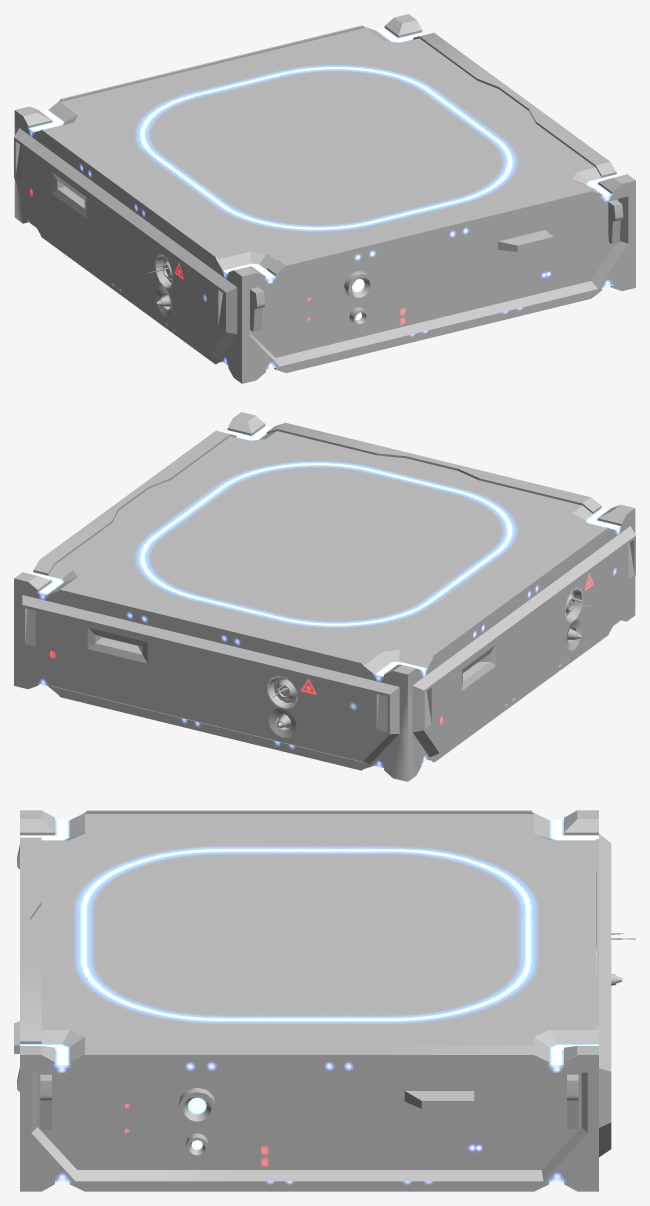
Rendered from 4Way-2S_Caps.fbx.
3 views of the same model, one above another, from view 1: azimuth 30°, elevation 25°; view 2: azimuth 150°, elevation 25°; view 3: azimuth 270°, elevation 25° (orthographic). The views are drawn at different scales.
Visible parts, largest first — view 1: 4Way-2S_Caps; view 2: 4Way-2S_Caps; view 3: 4Way-2S_Caps.
Boxes of the visible parts, x1,y1,x2,y2 form: 4Way-2S_Caps: (14, 14, 635, 383); 4Way-2S_Caps: (14, 412, 635, 781); 4Way-2S_Caps: (14, 810, 635, 1191).
Bounding box in the file's own units: 2.69 × 0.6519 × 2.69.
